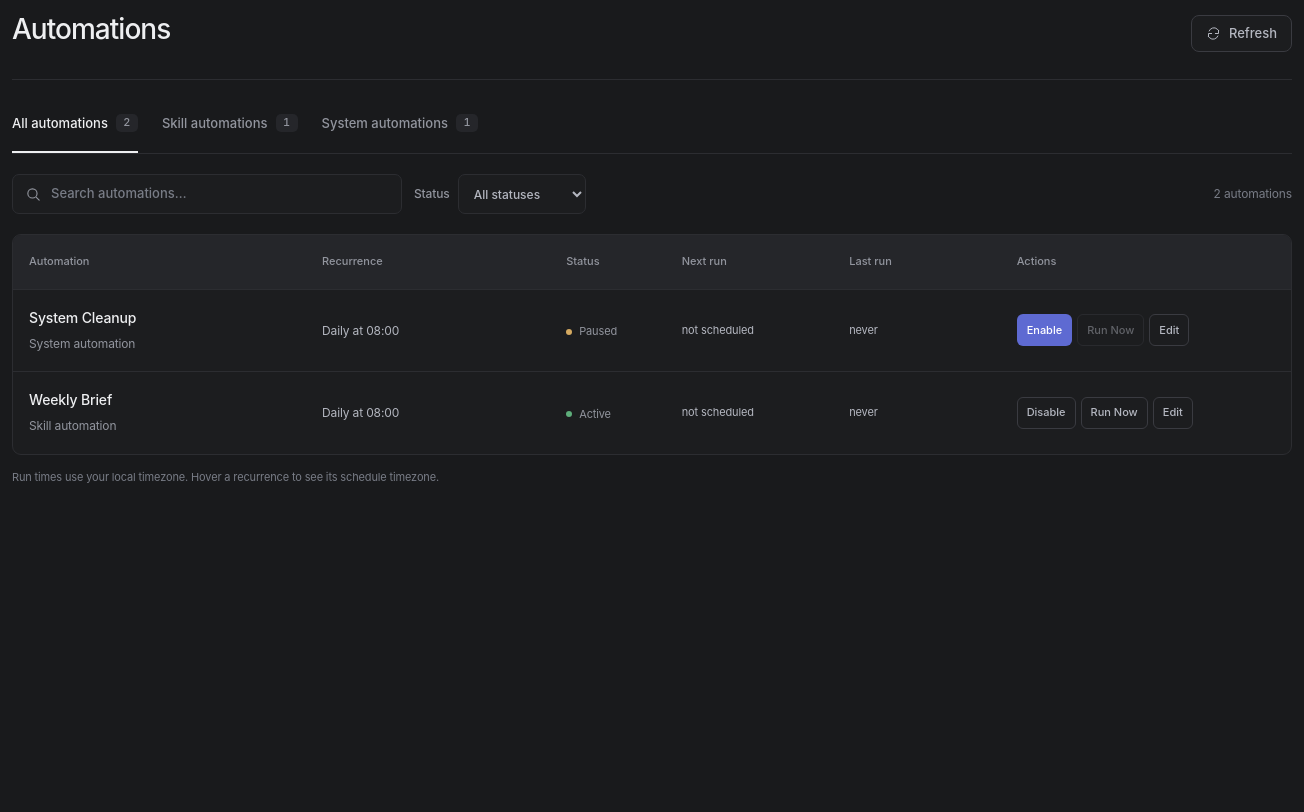
Test case: AutomationsPage › combines automation source, search, and backend availability filters
Expected: the text "System Cleanup" is shown, [29,308,136,328]
Click the button "Skill automations 1": (230, 130) [162,108,298,153]
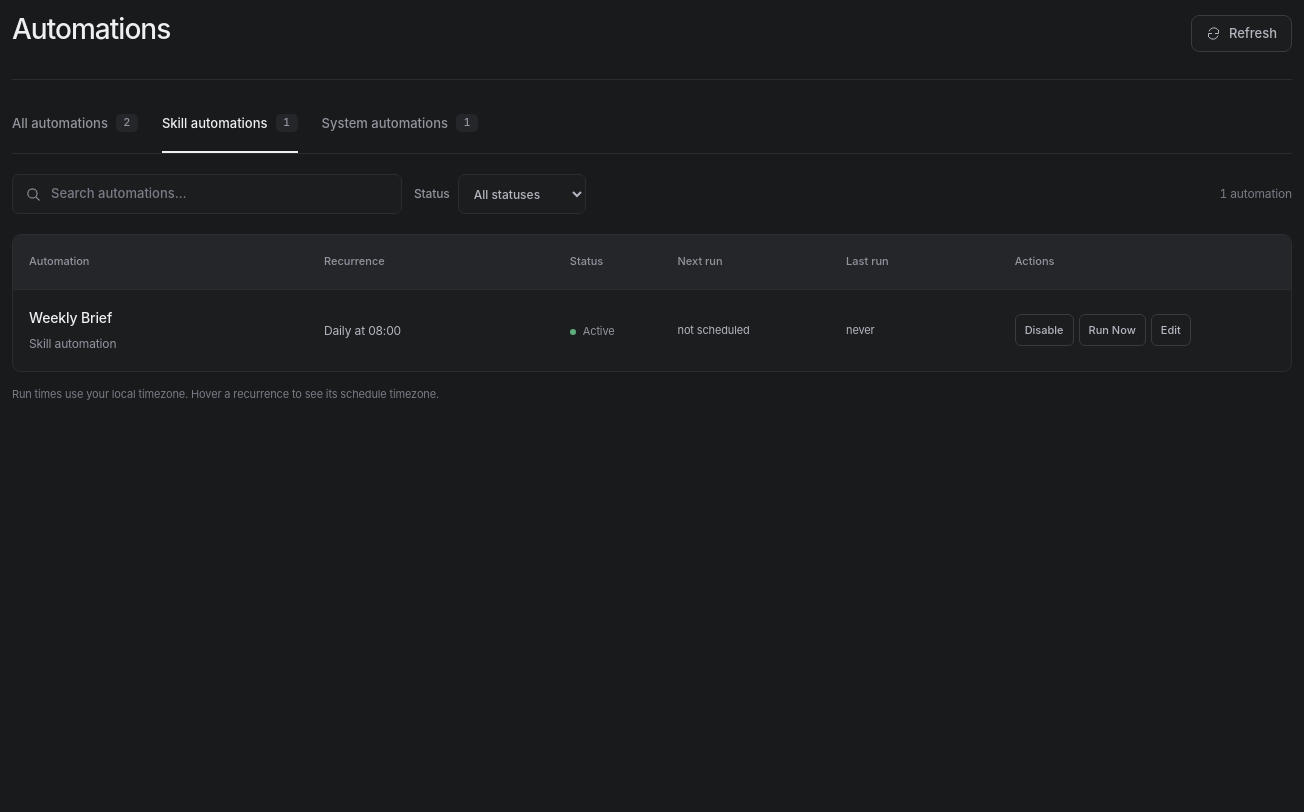
Result: the text "System Cleanup" is gone
Select "Active" in the dropdown labelled "Status": (522, 194) [458,174,586,214]
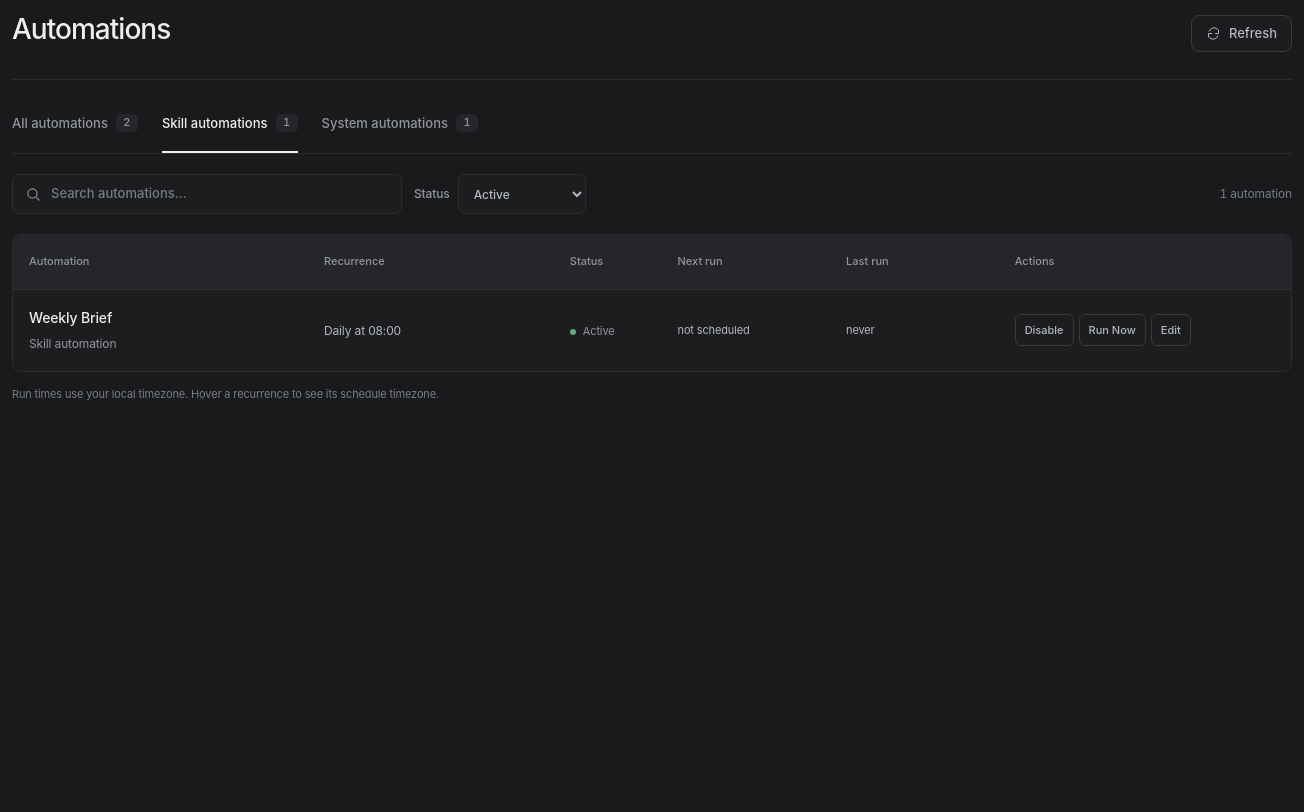
Expected: the link "Weekly Brief" is shown, [29,309,112,326]
In the search field labelled "Search automations": (220, 194) [51,175,389,213], type "unknown"
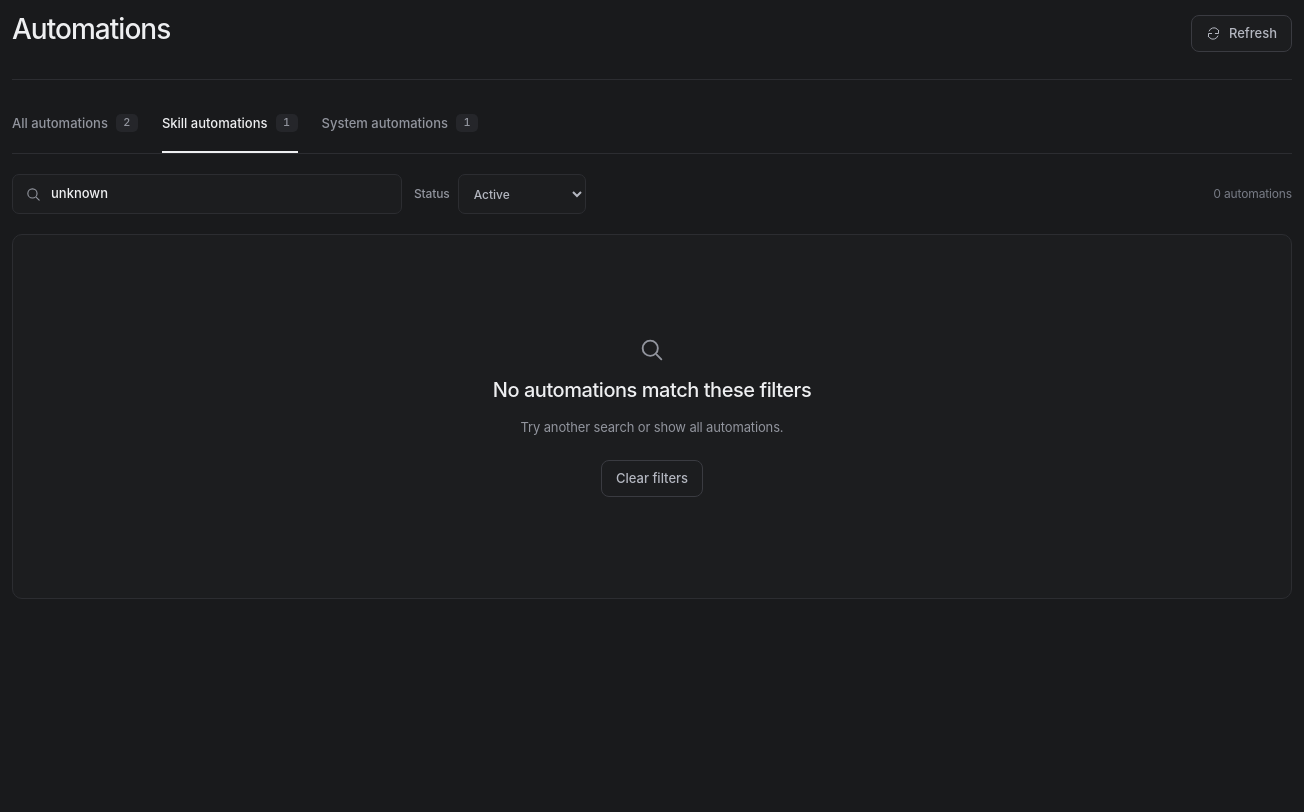
Result: the heading "No automations match these filters" is shown at [493,376,811,404]
Click the button "Clear filters": (652, 479) [601,460,703,497]
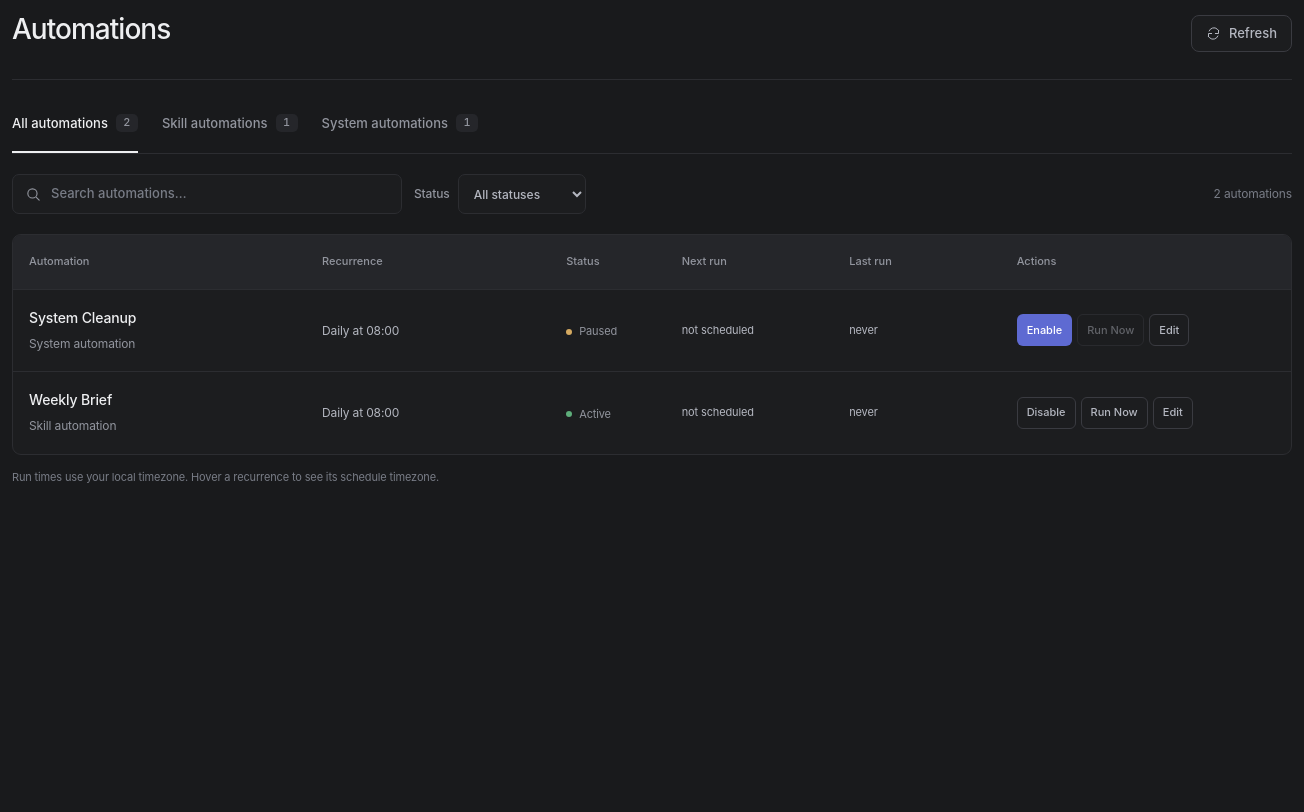
Result: the text "System Cleanup" is shown at [29,308,136,328]
Result: the link "Weekly Brief" is shown at [29,391,112,408]
